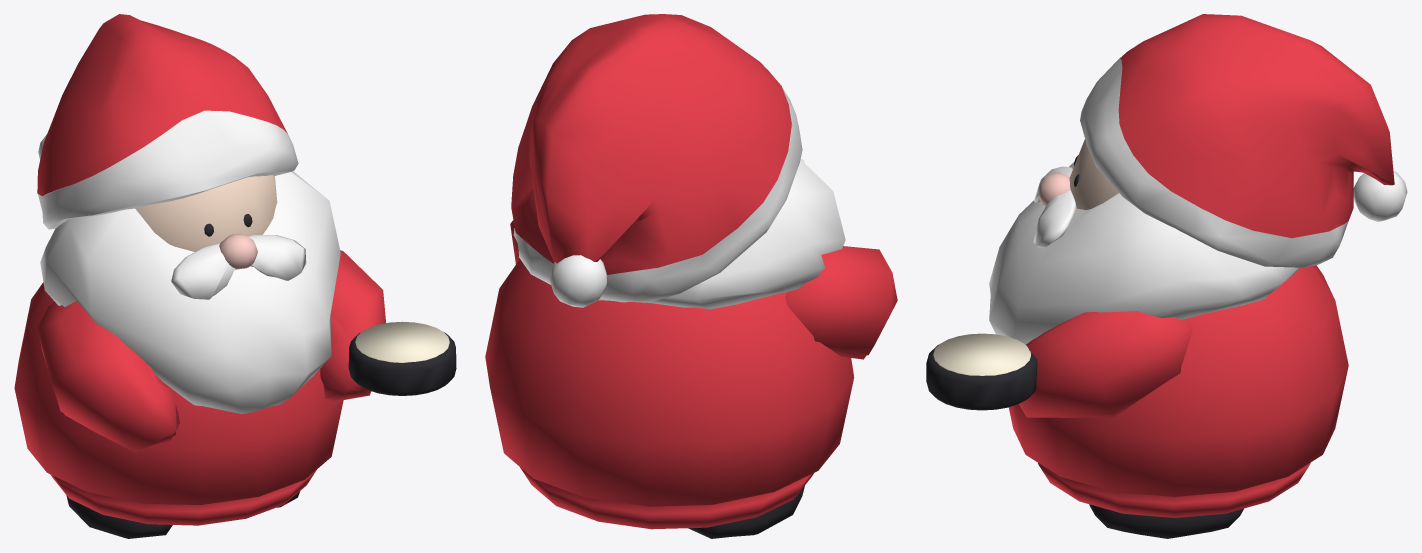
File: gukbap.glb
The picture shows the model from 3 angles, left to right: view 1: azimuth 30°, elevation 25°; view 2: azimuth 150°, elevation 25°; view 3: azimuth 270°, elevation 25°; orthographic projection. The views are drawn at different scales.
Parts seen in each view (by area): view 1: gukbap_red, gukbap_white, gukbap_skin, gukbap_black, gukbap_cream, gukbap_nose; view 2: gukbap_red, gukbap_white, gukbap_black; view 3: gukbap_red, gukbap_white, gukbap_black, gukbap_cream, gukbap_skin, gukbap_nose.
Boxes of the visible parts, x1=… form: gukbap_red: x1=14, y1=14, x2=385, y2=525; gukbap_white: x1=38, y1=110, x2=340, y2=413; gukbap_skin: x1=135, y1=130, x2=277, y2=251; gukbap_black: x1=66, y1=214, x2=456, y2=538; gukbap_cream: x1=355, y1=321, x2=449, y2=362; gukbap_nose: x1=219, y1=233, x2=257, y2=269; gukbap_red: x1=485, y1=14, x2=897, y2=529; gukbap_white: x1=513, y1=69, x2=845, y2=309; gukbap_black: x1=688, y1=486, x2=804, y2=538; gukbap_red: x1=1008, y1=14, x2=1394, y2=517; gukbap_white: x1=989, y1=58, x2=1407, y2=344; gukbap_black: x1=926, y1=155, x2=1243, y2=538; gukbap_cream: x1=933, y1=333, x2=1030, y2=375; gukbap_skin: x1=1069, y1=98, x2=1181, y2=210; gukbap_nose: x1=1038, y1=172, x2=1070, y2=206.
Bounding box in the file's own units: 2.33 × 2.98 × 2.76.
